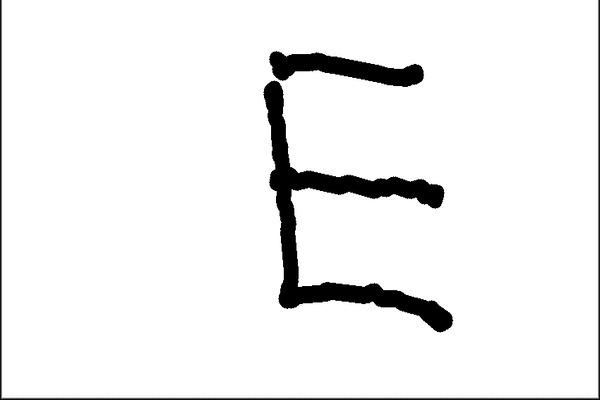E: (259, 42, 463, 336)
